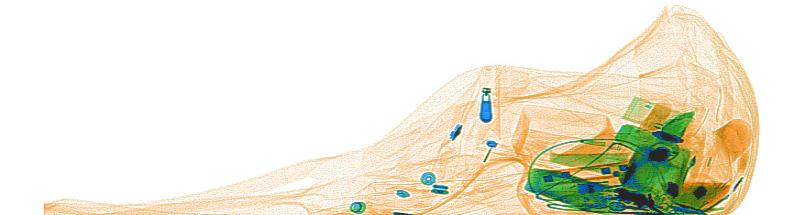plasticBottleWithaNozzle: (511, 104, 644, 171)
